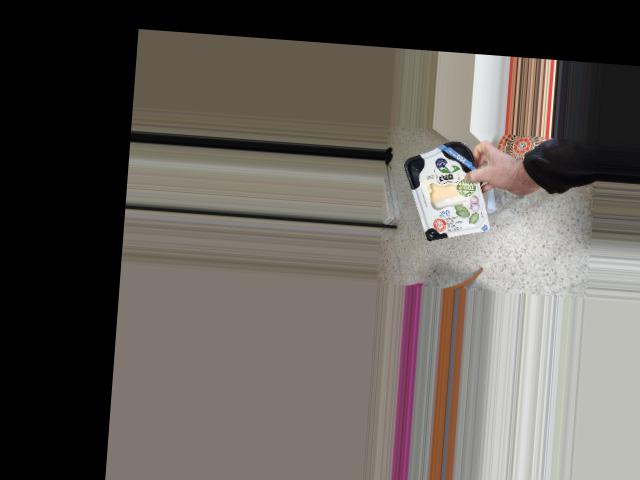cheese: (412, 142, 486, 242)
